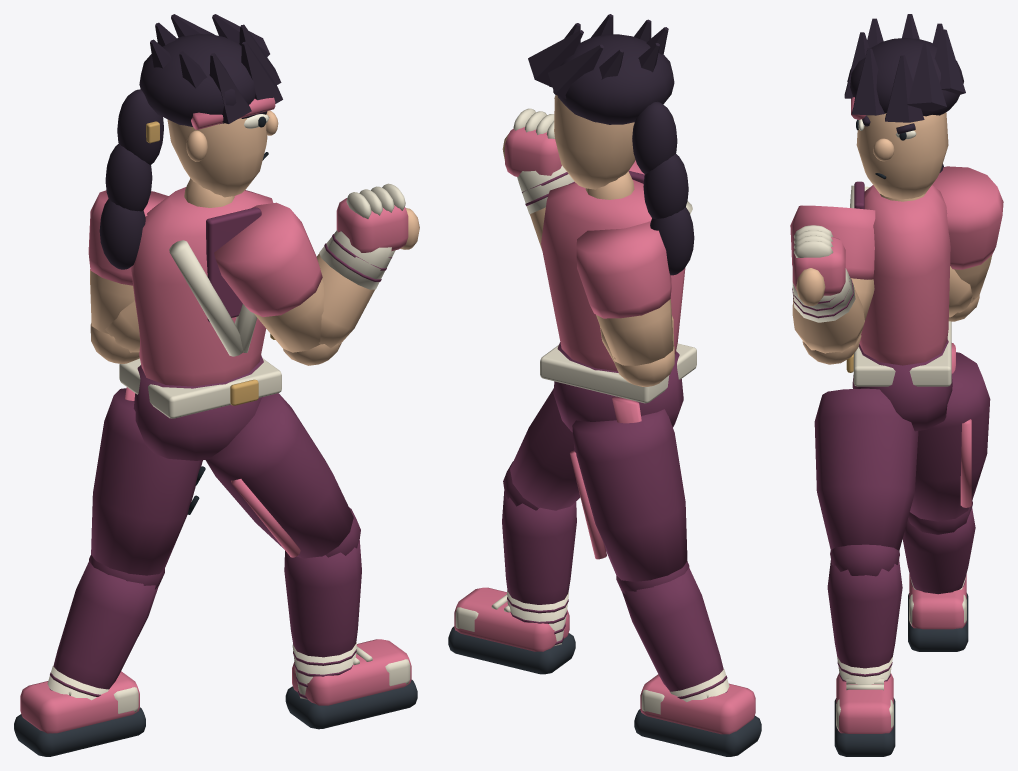
The model's file is mei-rig-v2.glb.
The picture shows the model from 3 angles, left to right: view 1: azimuth 30°, elevation 25°; view 2: azimuth 150°, elevation 25°; view 3: azimuth 270°, elevation 25°; orthographic projection. The views are drawn at different scales.
Parts seen in each view (by area): view 1: mei__head_surface, mei__torso_surface, mei__thighF_surface, mei__thighB_surface, mei__upperArmF_surface, mei__shinB_surface, mei__shinF_surface, mei__footB_surface, mei__footF_surface, mei__pelvis_surface, mei__forearmF_surface, mei__upperArmB_surface (+2 smaller); view 2: mei__head_surface, mei__thighB_surface, mei__torso_surface, mei__upperArmB_surface, mei__shinB_surface, mei__shinF_surface, mei__footB_surface, mei__footF_surface, mei__thighF_surface, mei__pelvis_surface, mei__handF_surface, mei__forearmF_surface (+1 smaller); view 3: mei__torso_surface, mei__thighF_surface, mei__head_surface, mei__thighB_surface, mei__shinF_surface, mei__upperArmB_surface, mei__footF_surface, mei__upperArmF_surface, mei__shinB_surface, mei__forearmF_surface, mei__footB_surface, mei__handF_surface (+2 smaller).
Part boxes in pixels (x1,y1,x2,y2): mei__head_surface: (99,14,282,269); mei__torso_surface: (119,187,281,418); mei__thighF_surface: (205,393,360,558); mei__thighB_surface: (89,388,205,589); mei__upperArmF_surface: (214,202,341,365); mei__shinB_surface: (47,561,158,700); mei__shinF_surface: (284,539,361,699); mei__footB_surface: (14,671,145,756); mei__footF_surface: (285,639,417,729); mei__pelvis_surface: (133,355,263,460); mei__forearmF_surface: (317,230,395,348); mei__upperArmB_surface: (88,190,168,363); mei__head_surface: (528,14,694,275); mei__thighB_surface: (570,409,689,594); mei__torso_surface: (540,171,696,403); mei__upperArmB_surface: (576,220,674,386); mei__shinB_surface: (622,568,729,701); mei__shinF_surface: (502,490,576,645); mei__footB_surface: (634,674,761,756); mei__footF_surface: (448,587,575,674); mei__thighF_surface: (503,389,580,510); mei__pelvis_surface: (553,342,683,432); mei__handF_surface: (502,108,561,176); mei__forearmF_surface: (517,165,574,250); mei__torso_surface: (846,181,951,386); mei__thighF_surface: (814,388,918,576); mei__head_surface: (844,14,965,201); mei__thighB_surface: (908,352,990,534); mei__shinF_surface: (827,559,902,684); mei__upperArmB_surface: (932,166,1003,321); mei__footF_surface: (834,673,895,756); mei__upperArmF_surface: (790,205,875,364); mei__shinB_surface: (902,508,975,594); mei__forearmF_surface: (792,268,864,353); mei__footB_surface: (908,574,968,651); mei__handF_surface: (792,225,845,305).
Size of the model in its own units: 1.75 by 3.42 by 1.02.
